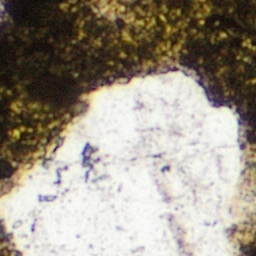cement_matrix: (0, 0, 255, 186), (0, 227, 14, 255), (241, 228, 255, 255), (82, 145, 95, 168), (252, 164, 255, 173)
gravel_crushed_stones: (0, 67, 255, 255), (81, 144, 96, 169), (98, 0, 119, 15)
